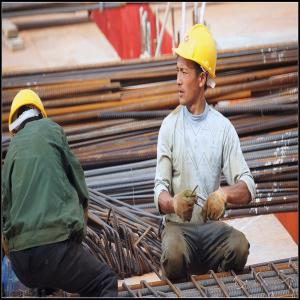yellow: (174, 24, 219, 107), (10, 83, 48, 143)
